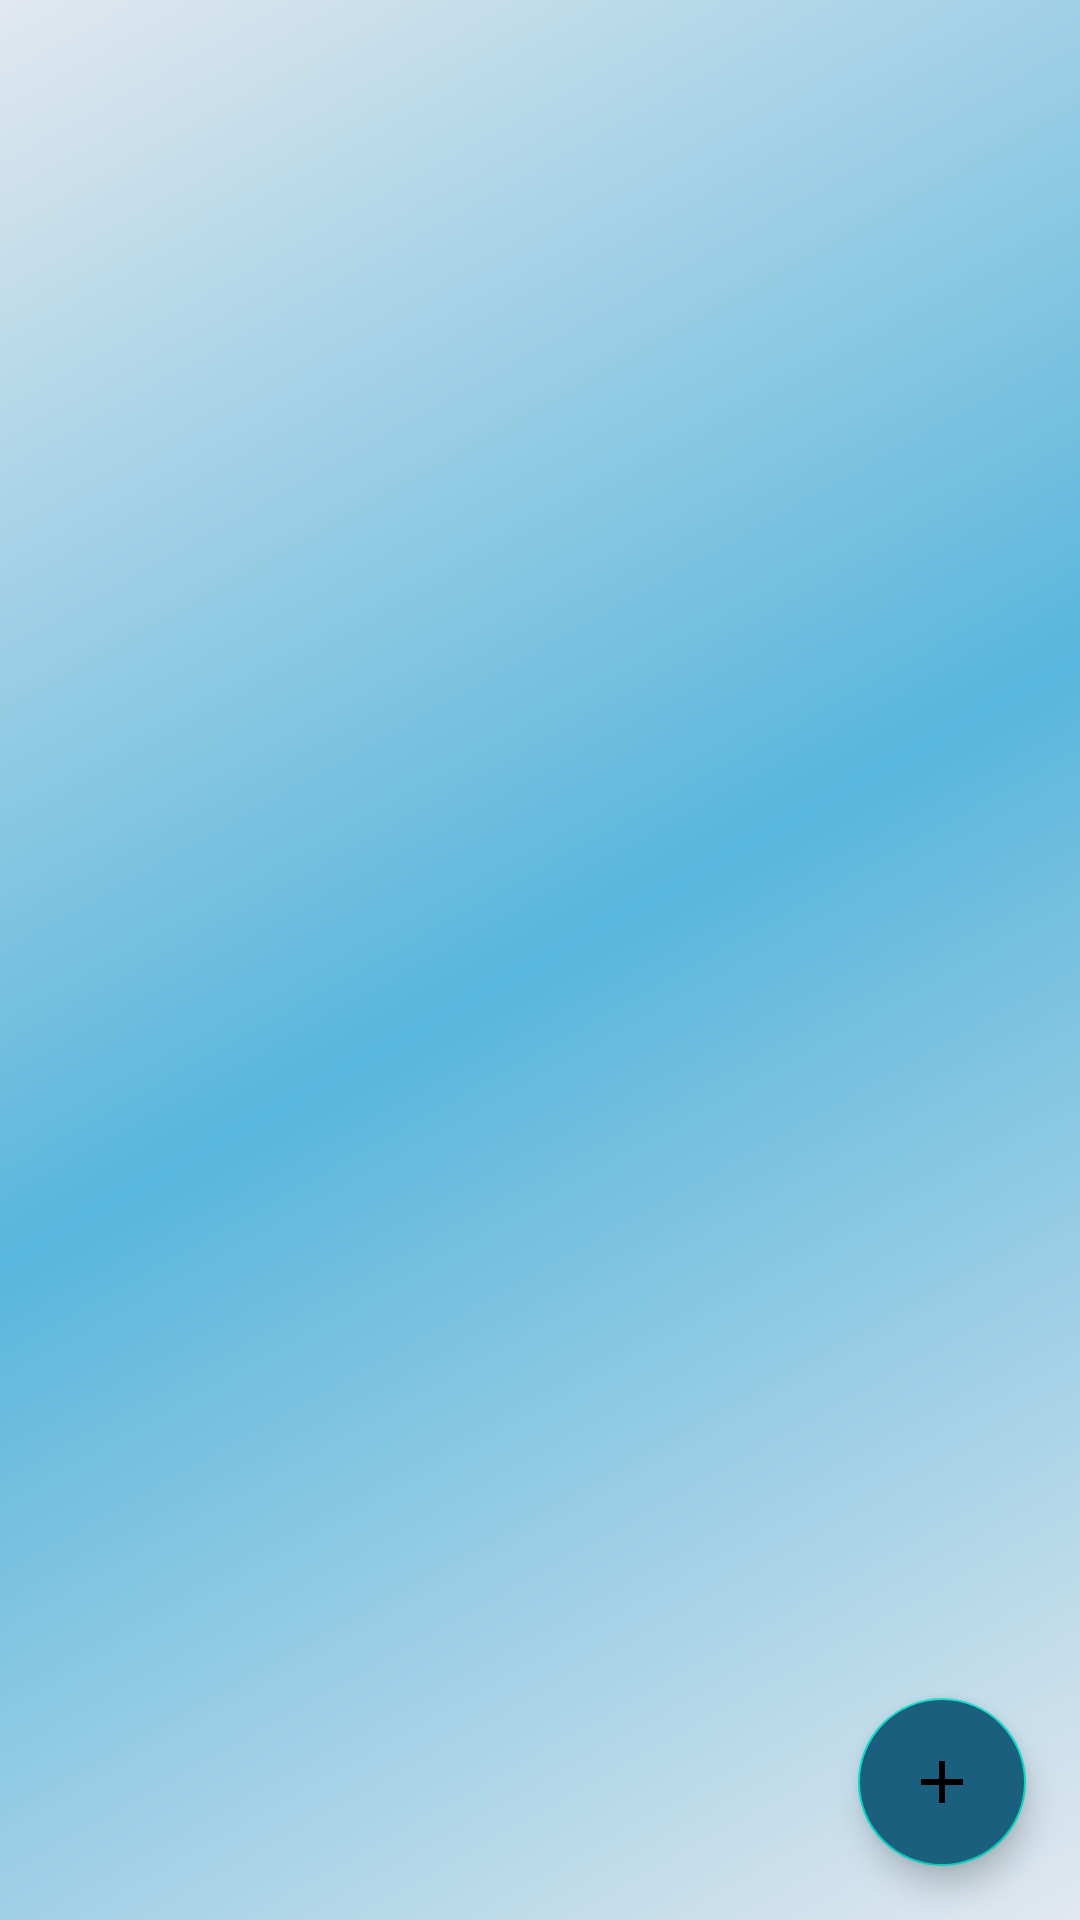

Named icons in this screenshot (1080 × 1920) and their centers, (x=x, y=y):
add: (x=942, y=1782)
